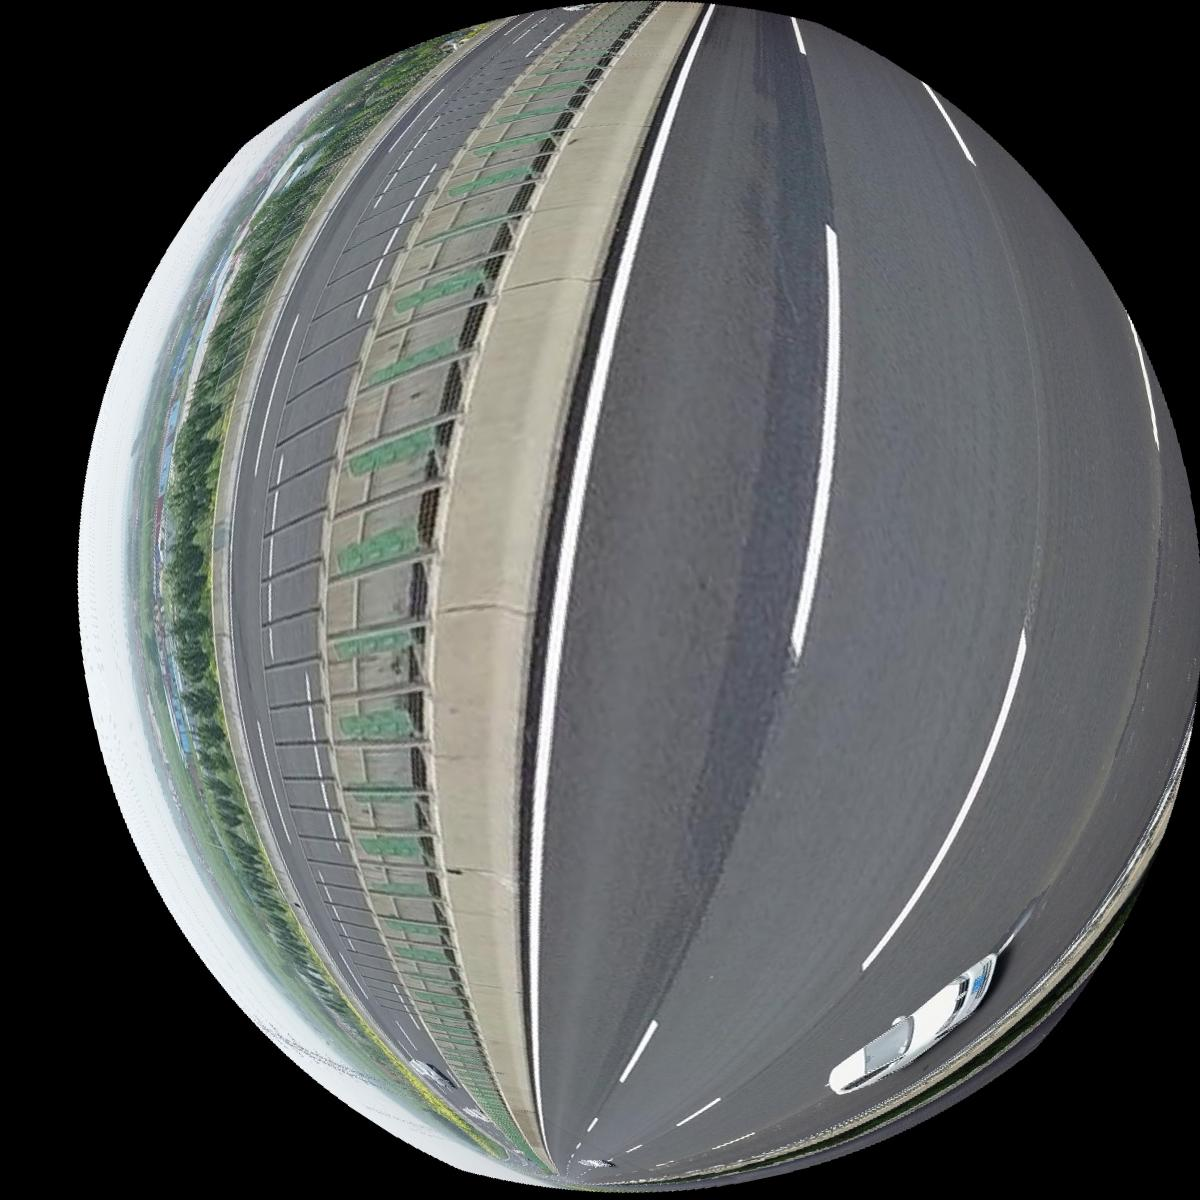cars: (830, 953, 999, 1095)
